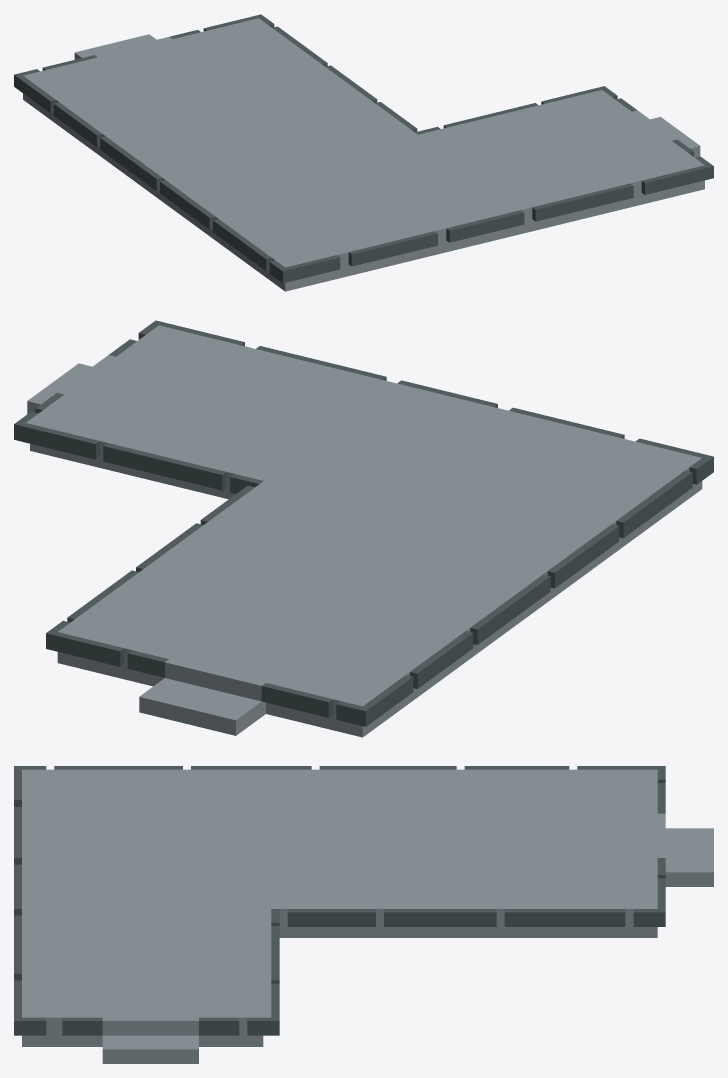
Rendered from solpierre castle.obj.
3 views of the same model, one above another, from view 1: azimuth 30°, elevation 25°; view 2: azimuth 150°, elevation 25°; view 3: azimuth 270°, elevation 25° (orthographic). The views are drawn at different scales.
Bounding box in the file's own units: 7.9 × 0.4 × 8.7.
Materials: 1 (1 with a texture image).
